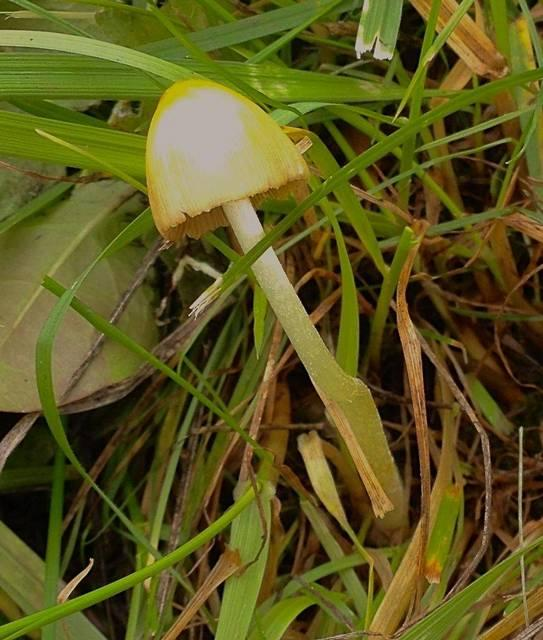Edible Mushroom: (143, 76, 408, 543)
